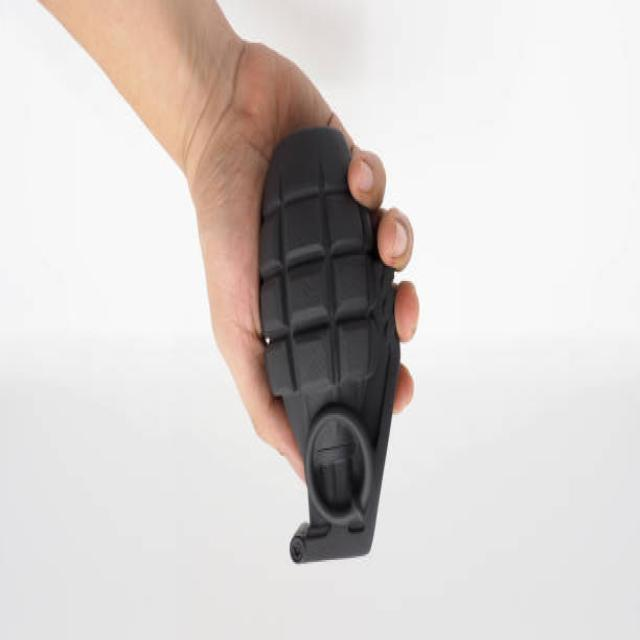grenade: (259, 124, 404, 581)
